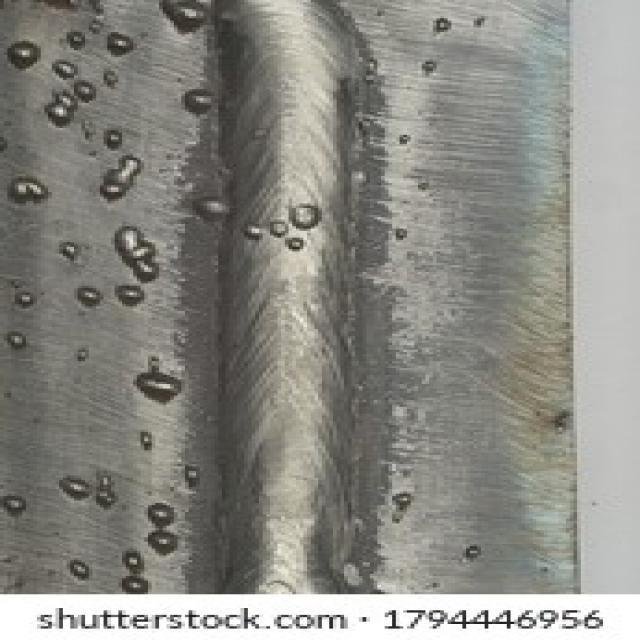Spatters: (112, 227, 164, 287), (35, 89, 97, 129), (152, 4, 218, 38), (182, 184, 235, 223), (54, 544, 104, 585), (98, 159, 146, 201), (129, 376, 190, 408), (118, 546, 158, 594), (262, 214, 310, 253), (8, 169, 54, 207), (282, 195, 326, 234), (178, 79, 216, 117), (70, 274, 107, 312), (285, 197, 325, 229), (143, 496, 180, 530), (59, 472, 94, 506), (2, 482, 26, 528), (7, 35, 38, 70), (102, 30, 140, 57), (100, 119, 132, 148), (52, 54, 80, 83), (59, 235, 84, 265), (62, 29, 88, 54), (12, 285, 38, 309), (6, 324, 28, 349), (70, 344, 95, 366), (99, 67, 118, 88)
